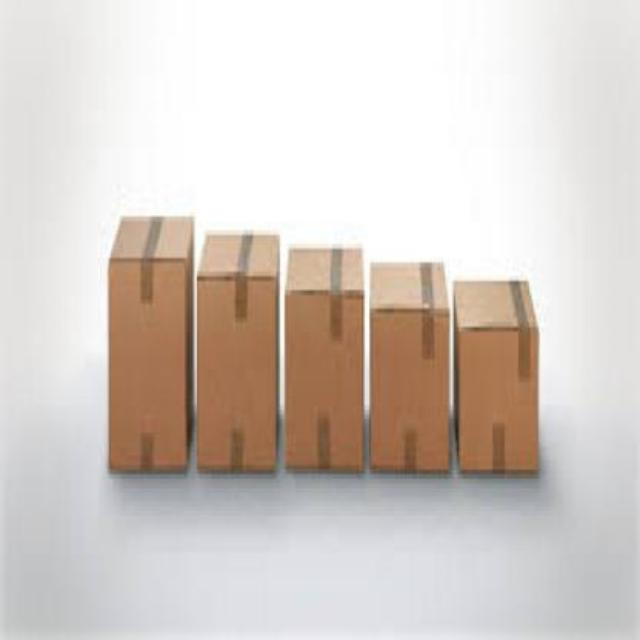cardboard_box: (111, 213, 187, 471), (200, 228, 276, 472), (288, 251, 362, 474), (454, 280, 536, 476), (368, 264, 442, 472)
